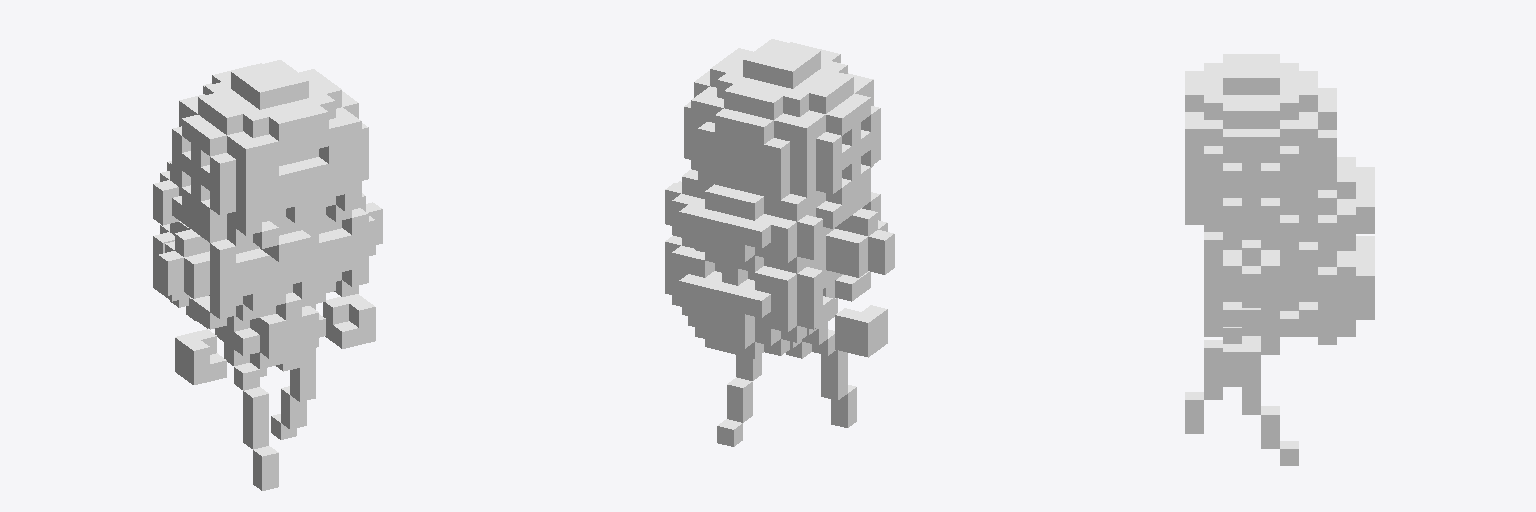
File: player_walk-04.obj
3 views of the same model, side by side, from view 1: azimuth 30°, elevation 25°; view 2: azimuth 150°, elevation 25°; view 3: azimuth 270°, elevation 25° (orthographic).
Bounding box in the file's own units: 13 × 22 × 10.